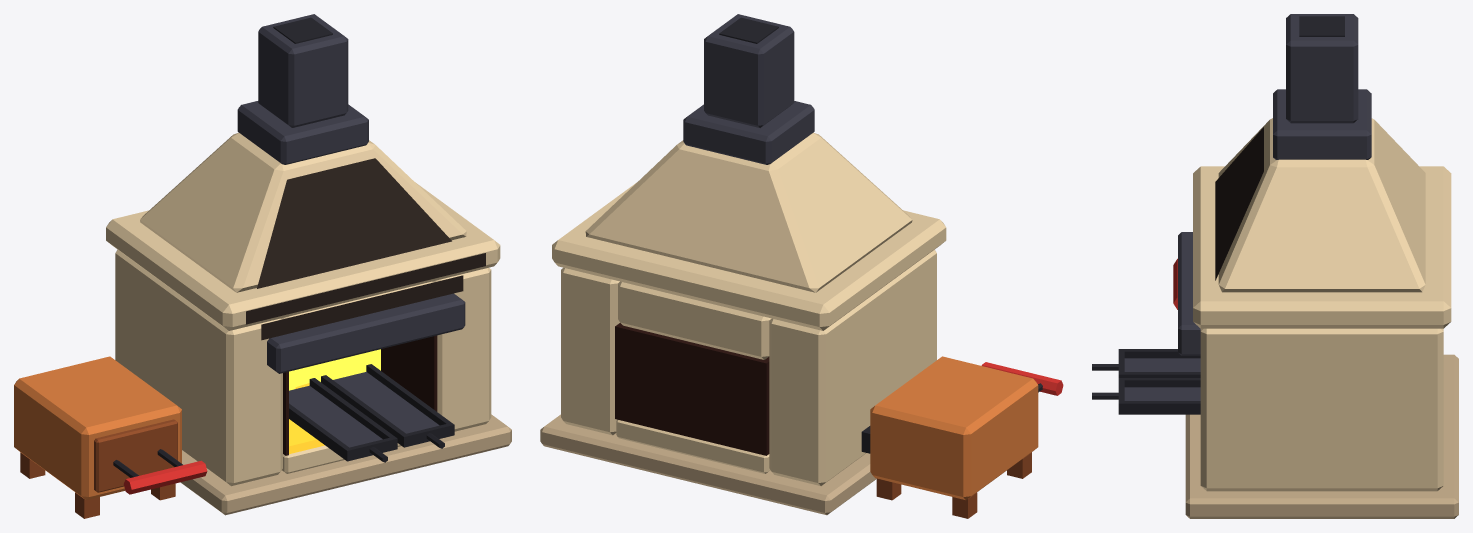
File: Forge.fbx
3 renders of one model, left to right at view 1: azimuth 30°, elevation 25°; view 2: azimuth 150°, elevation 25°; view 3: azimuth 270°, elevation 25°, orthographic. The views are drawn at different scales.
Visible parts, largest first — view 1: Wall, Hood, SootHood, Bellows, Course, Plinth, Chimney, Lintel, Wall.001, Collar, BellowsEnd, SootCrown (+15 smaller); view 2: Hood, Wall, Bellows, Course, Back, Plinth, Wall.001, Chimney, Crown, Collar, Hearth, Flue (+1 smaller); view 3: Wall.001, Hood, Course, Plinth, Chimney, Collar, SootHood, Lintel, Tray1, Tray2, Tray2Rail.001, Flue (+3 smaller).
Part boxes in pixels (box(x1,y1,x2,y2)): Wall: box(115, 249, 282, 486); Hood: box(140, 132, 466, 292); SootHood: box(257, 158, 451, 288); Bellows: box(14, 356, 181, 500); Course: box(106, 182, 500, 330); Plinth: box(180, 414, 511, 515); Chimney: box(258, 14, 348, 127); Lintel: box(267, 293, 465, 373); Wall.001: box(432, 267, 491, 431); Collar: box(237, 101, 368, 164); BellowsEnd: box(94, 419, 177, 492); SootCrown: box(261, 275, 463, 340); Hood: box(585, 132, 912, 292); Wall: box(769, 249, 936, 485); Bellows: box(870, 356, 1038, 499); Course: box(552, 182, 946, 330); Back: box(615, 323, 769, 455); Plinth: box(540, 414, 876, 515); Wall.001: box(561, 267, 619, 435); Chimney: box(704, 14, 794, 127); Crown: box(618, 281, 771, 359); Collar: box(683, 101, 814, 164); Hearth: box(616, 419, 770, 473); Flue: box(719, 17, 778, 43); Wall.001: box(1200, 328, 1443, 491); Hood: box(1218, 118, 1425, 292); Course: box(1193, 166, 1451, 328); Plinth: box(1185, 354, 1458, 518); Chimney: box(1286, 14, 1358, 123); Collar: box(1273, 89, 1371, 159); SootHood: box(1215, 127, 1263, 280); Lintel: box(1178, 232, 1200, 355); Tray1: box(1124, 358, 1200, 371); Tray2: box(1124, 387, 1200, 400); Tray2Rail.001: box(1124, 401, 1200, 414); Flue: box(1299, 16, 1344, 36).
Size of the model in its own units: 635 by 612 by 483.
11 materials, 1 textured.
